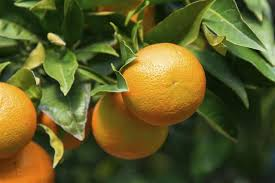orange: (117, 45, 208, 122), (89, 87, 172, 163), (1, 73, 39, 164)
